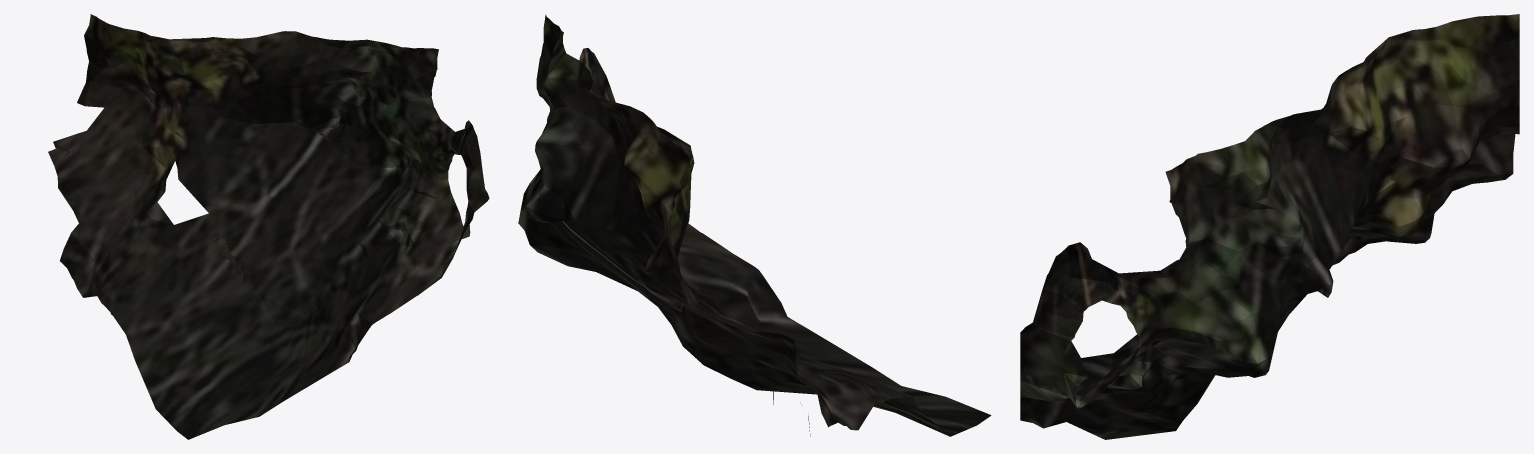
The picture shows the model from 3 angles, left to right: view 1: azimuth 30°, elevation 25°; view 2: azimuth 150°, elevation 25°; view 3: azimuth 270°, elevation 25°; orthographic projection. The views are drawn at different scales.
Size of the model in its own units: 0.8374 by 0.7442 by 0.8374.
Materials: 4 (4 with a texture image).
